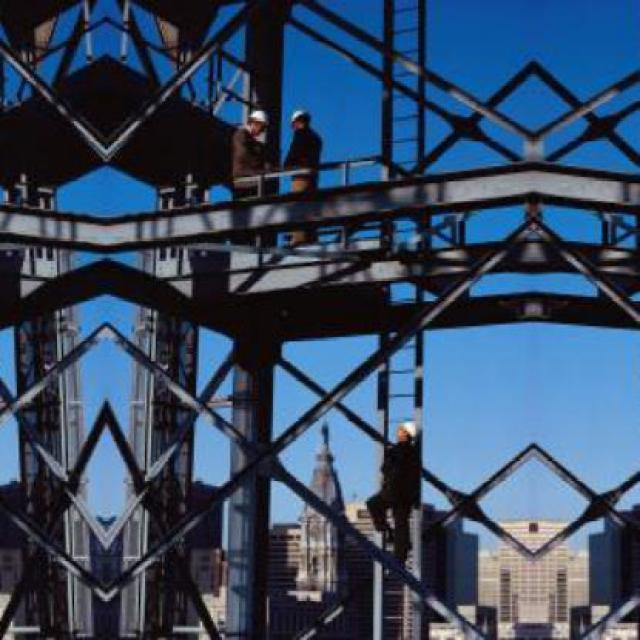helmet: (247, 109, 268, 134), (285, 106, 310, 126)
